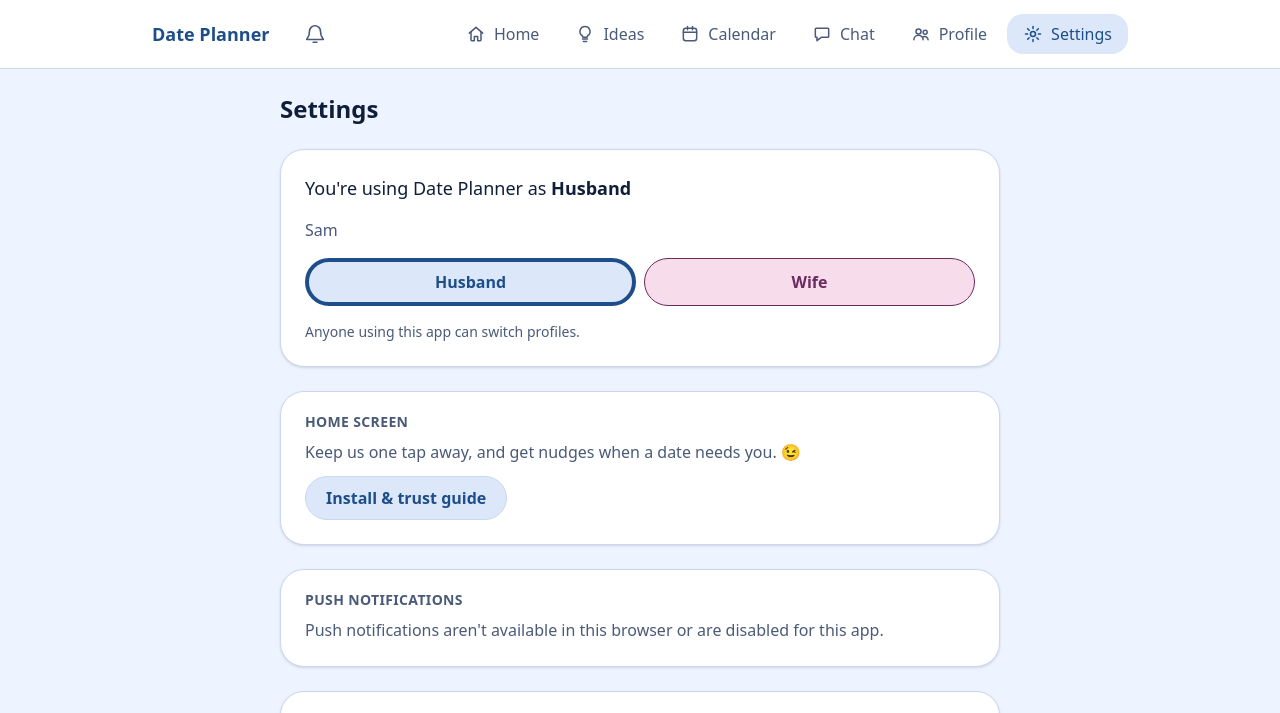
ProfilePage › shows the current role and name, and switches profile in place
Expected: the text "You're using Date Planner as Husband" is shown, left=305, top=176, right=631, bottom=200
Expected: the text "Sam" is shown, left=305, top=219, right=338, bottom=241
Click the button "Wife". click: [810, 282]
box: left=644, top=258, right=975, bottom=306
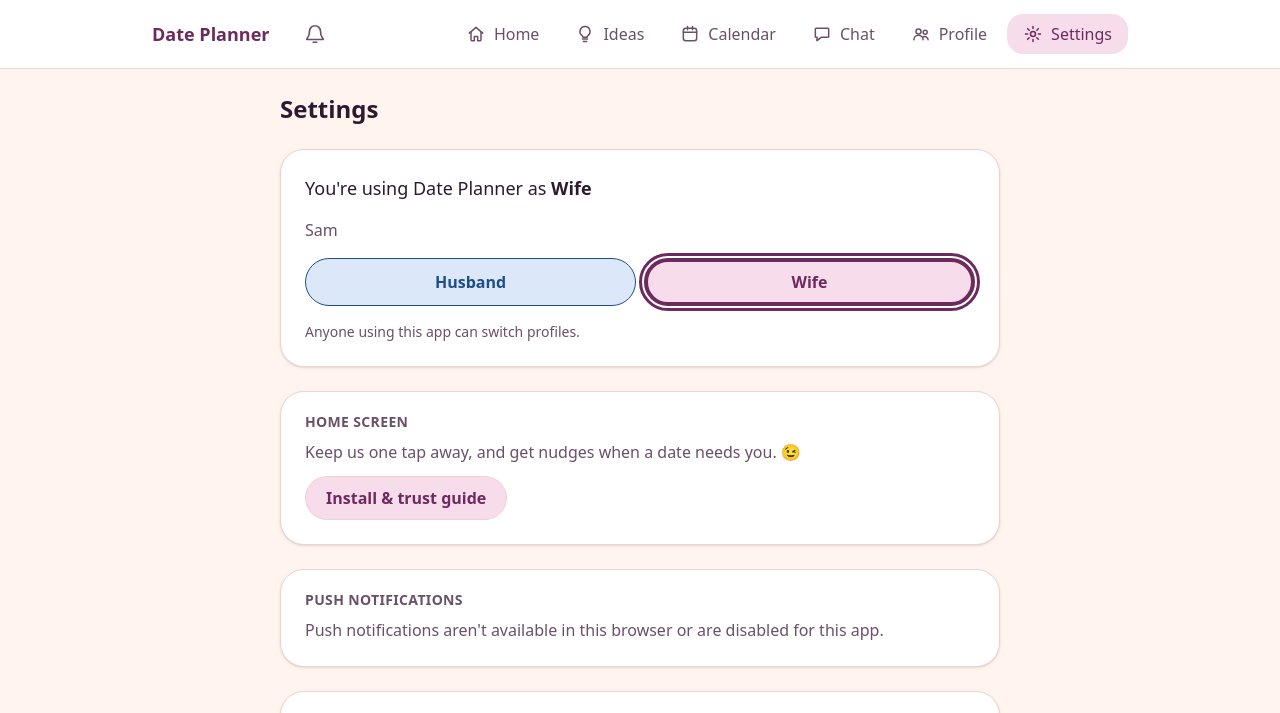
Expected: the text "You're using Date Planner as Wife" is shown, left=305, top=176, right=592, bottom=200
